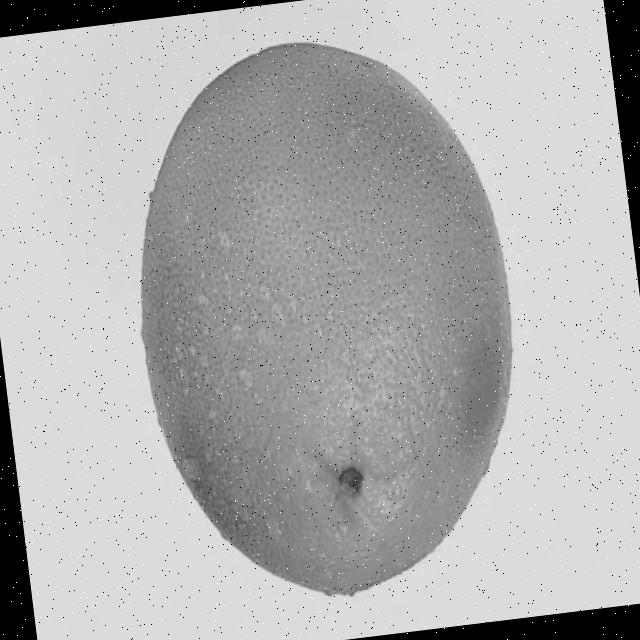Ripe: (105, 16, 548, 622)
